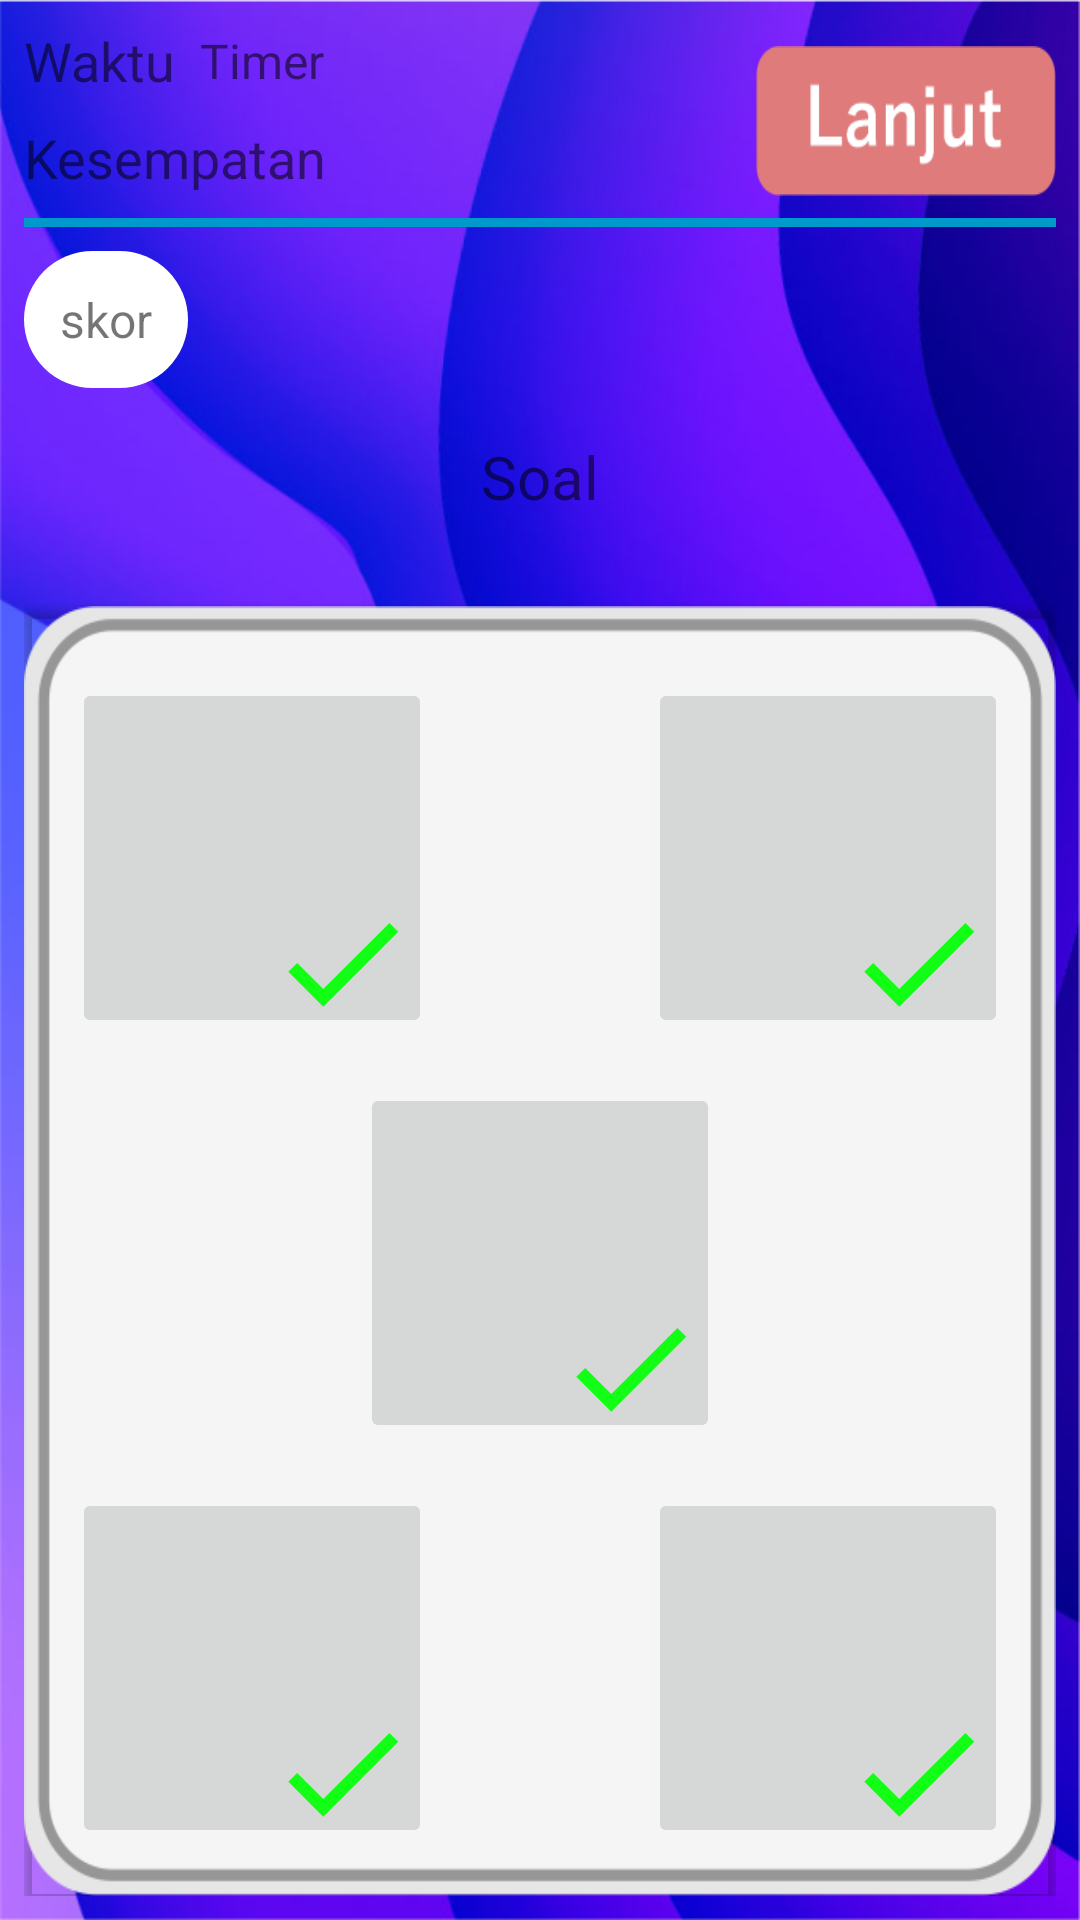

Where to tap for icons on this 1080px×1920px app screen, as (x,y):
check: (342,963), (918,963), (630,1368), (342,1773), (918,1773)
